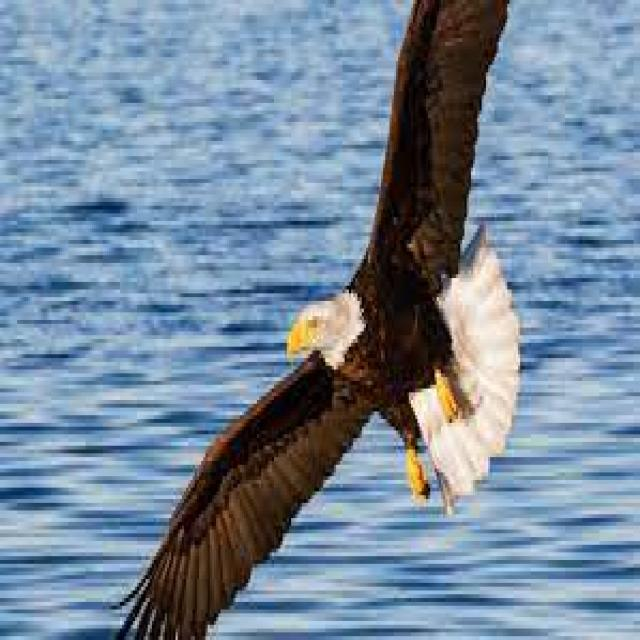birds: (113, 0, 520, 640)
